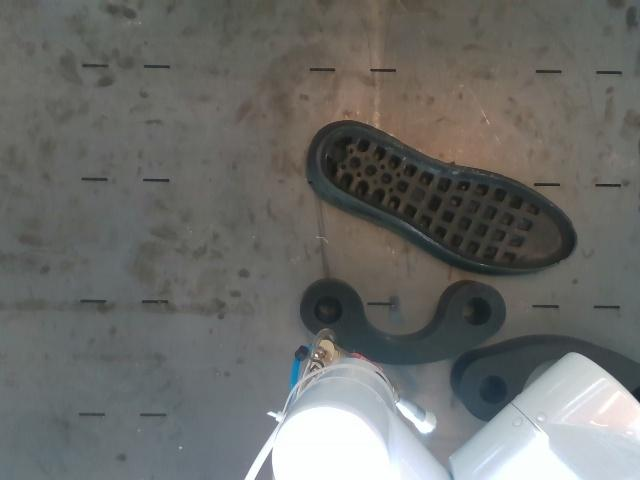shoes: (320, 127, 576, 269)
